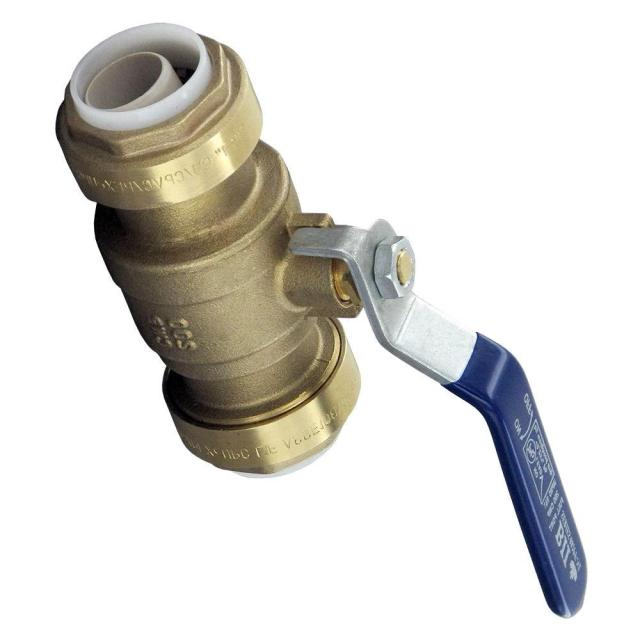opened_valve: (54, 21, 590, 618)
